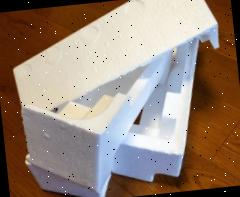general: (6, 0, 234, 197)
